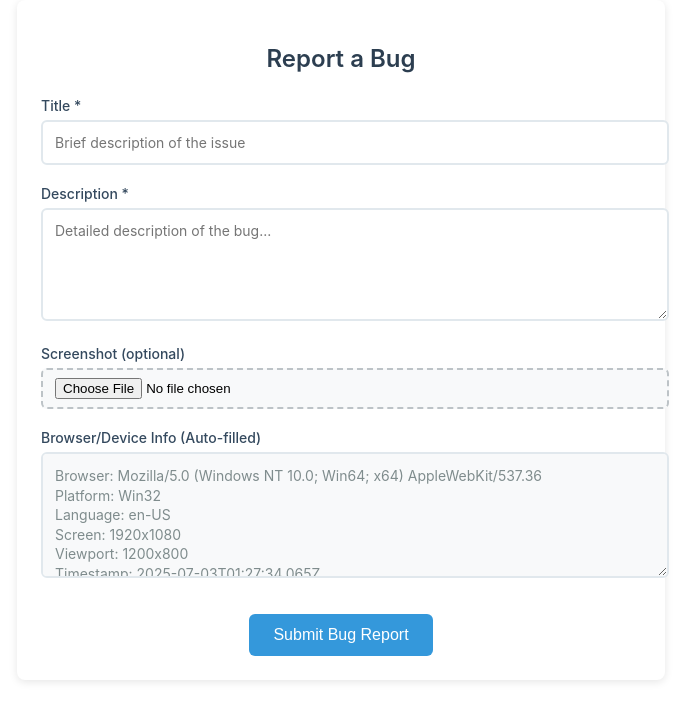
Scenario: BugReportForm › Form Submission (Missing Title/Description) › displays validation errors and prevents submission when title is missing
In the text box labelled "Description *": (355,264) [41,208,669,321], type "Description only"
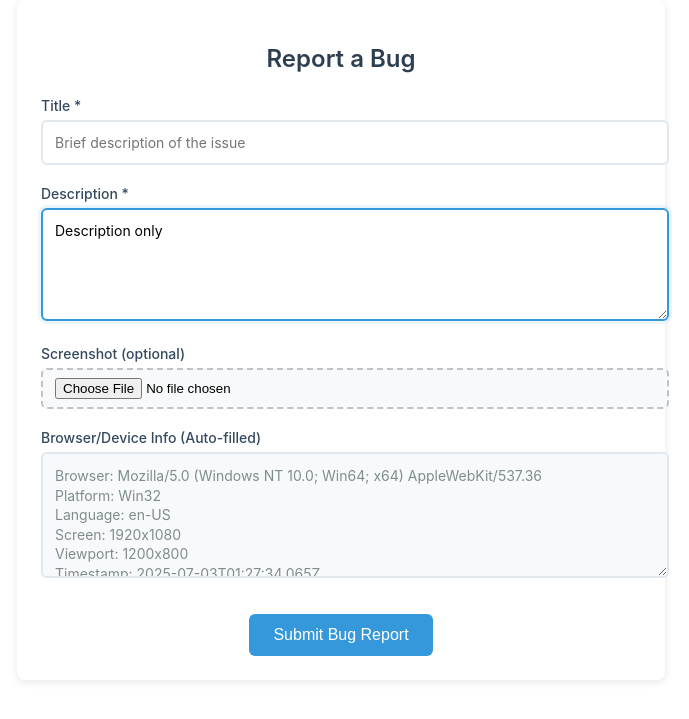
Click the button "Submit Bug Report": (341,635) [249,614,433,656]
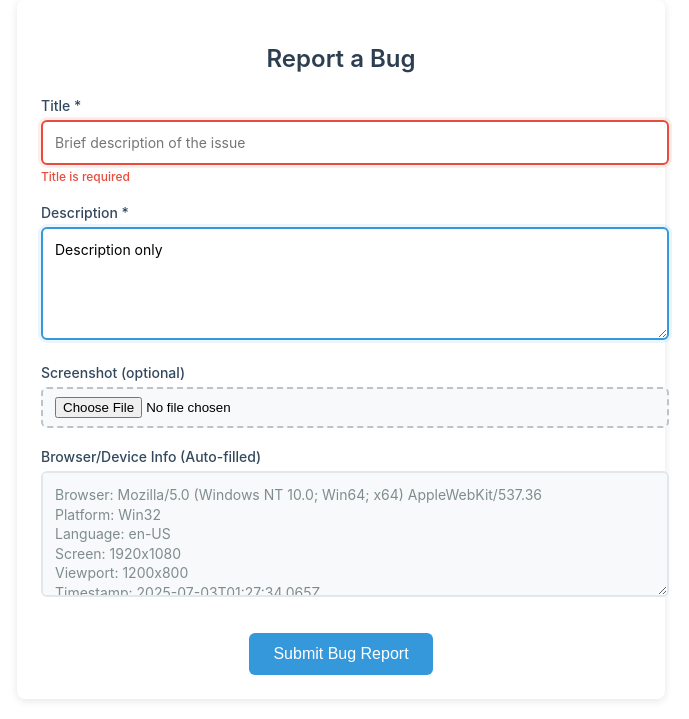
Now the text "Title is required" is shown, box [41,169,130,184]
